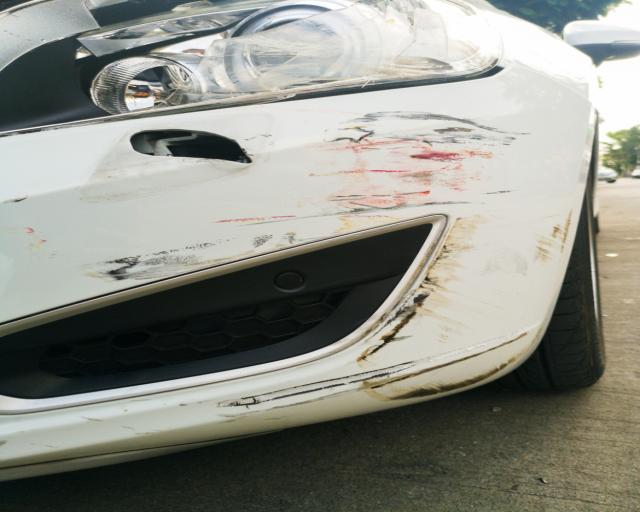lamp broken: (0, 0, 498, 133)
scratch: (96, 103, 589, 412)
